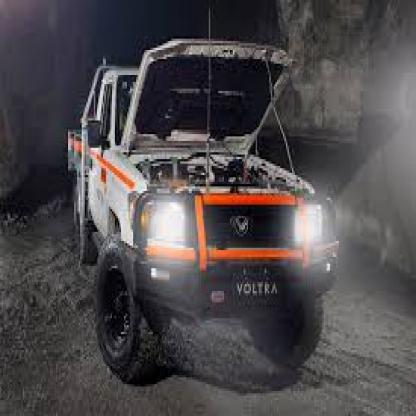light_vehicle: (49, 29, 362, 382)
